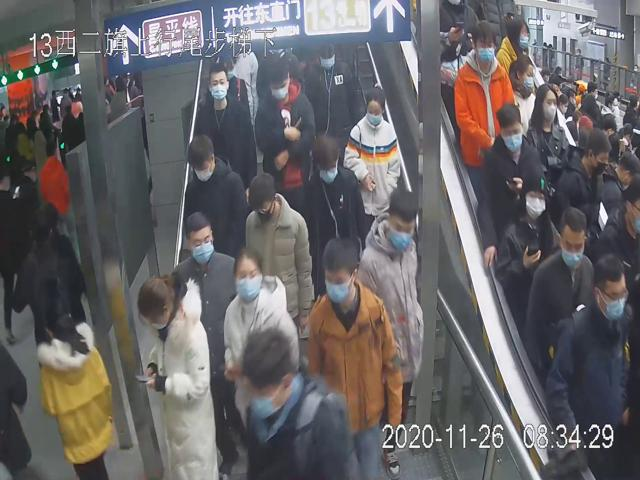person: (307, 233, 404, 478), (170, 205, 247, 473), (358, 184, 427, 480), (135, 269, 219, 480), (221, 245, 300, 460), (243, 166, 315, 363), (521, 205, 594, 380), (287, 131, 366, 289), (475, 100, 544, 275), (492, 165, 561, 326), (252, 55, 316, 223), (451, 18, 516, 183), (340, 80, 401, 232), (182, 131, 247, 254), (189, 64, 253, 181)
